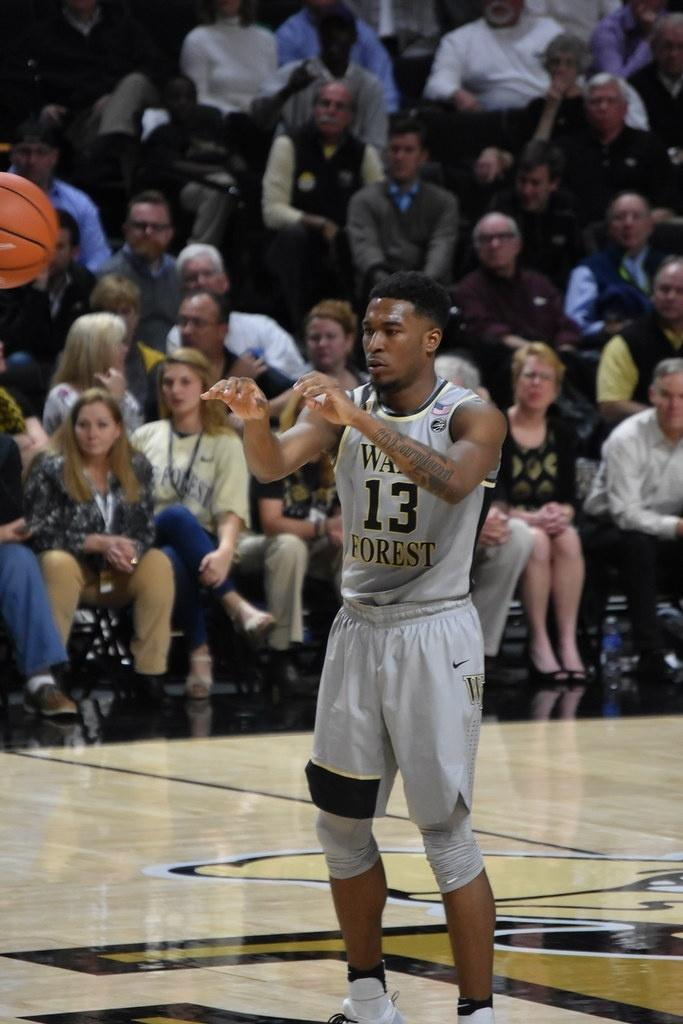basketball-player: (199, 269, 511, 1022)
